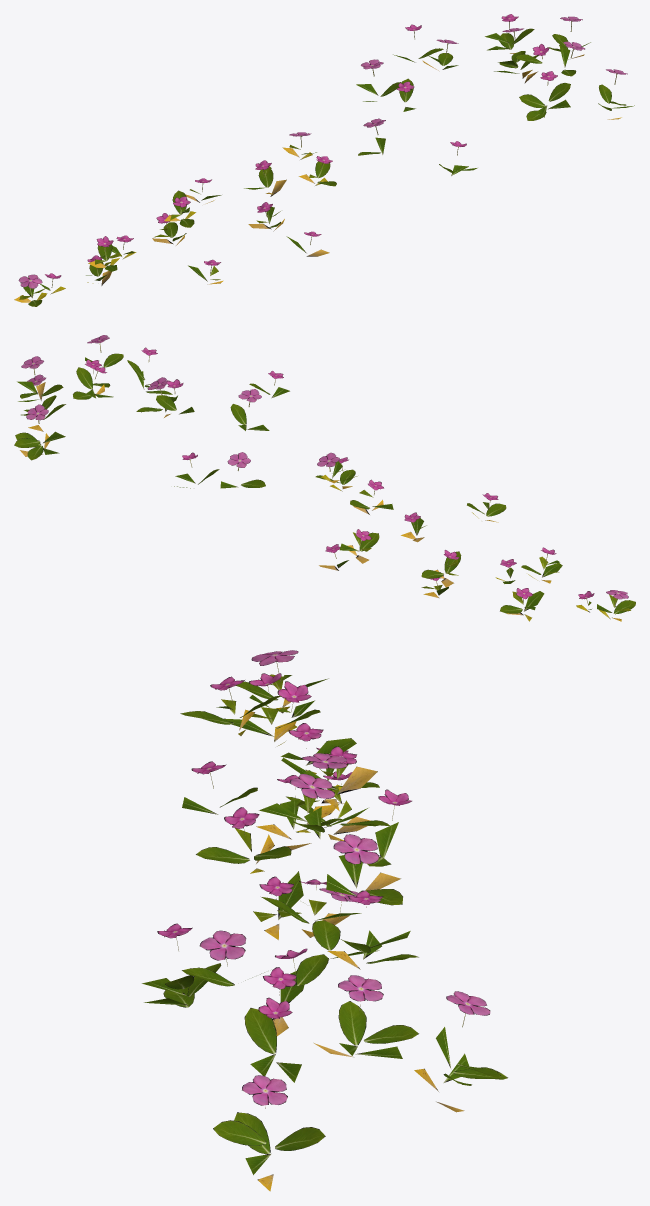
File: periwinkle_plant.glb
3 views of the same model, one above another, from view 1: azimuth 30°, elevation 25°; view 2: azimuth 150°, elevation 25°; view 3: azimuth 270°, elevation 25° (orthographic). The views are drawn at different scales.
Parts seen in each view (by area): view 1: periwinkle_plant_01_LOD0, periwinkle_plant_03_LOD0, periwinkle_plant_02_LOD0, periwinkle_plant_04_LOD0, periwinkle_plant_05_LOD0, periwinkle_plant_06_LOD0; view 2: periwinkle_plant_01_LOD0, periwinkle_plant_02_LOD0, periwinkle_plant_03_LOD0, periwinkle_plant_04_LOD0, periwinkle_plant_05_LOD0, periwinkle_plant_06_LOD0; view 3: periwinkle_plant_01_LOD0, periwinkle_plant_02_LOD0, periwinkle_plant_03_LOD0, periwinkle_plant_04_LOD0, periwinkle_plant_05_LOD0, periwinkle_plant_06_LOD0.
Boxes of the visible parts, bbox=[...] form: periwinkle_plant_01_LOD0: bbox=[485, 14, 634, 120]; periwinkle_plant_03_LOD0: bbox=[244, 132, 336, 256]; periwinkle_plant_02_LOD0: bbox=[356, 24, 477, 175]; periwinkle_plant_04_LOD0: bbox=[152, 178, 223, 284]; periwinkle_plant_05_LOD0: bbox=[86, 235, 136, 285]; periwinkle_plant_06_LOD0: bbox=[14, 273, 65, 306]; periwinkle_plant_01_LOD0: bbox=[14, 335, 172, 460]; periwinkle_plant_02_LOD0: bbox=[136, 371, 289, 488]; periwinkle_plant_03_LOD0: bbox=[315, 452, 393, 570]; periwinkle_plant_04_LOD0: bbox=[401, 493, 506, 598]; periwinkle_plant_05_LOD0: bbox=[495, 547, 562, 621]; periwinkle_plant_06_LOD0: bbox=[576, 590, 635, 621]; periwinkle_plant_01_LOD0: bbox=[142, 890, 507, 1191]; periwinkle_plant_02_LOD0: bbox=[182, 753, 411, 1082]; periwinkle_plant_03_LOD0: bbox=[196, 774, 361, 1036]; periwinkle_plant_04_LOD0: bbox=[180, 676, 389, 939]; periwinkle_plant_05_LOD0: bbox=[224, 673, 379, 803]; periwinkle_plant_06_LOD0: bbox=[236, 650, 328, 731].
Size of the model in its own units: 1.24 by 0.3457 by 0.3207.
Materials: 1 (1 with a texture image).
